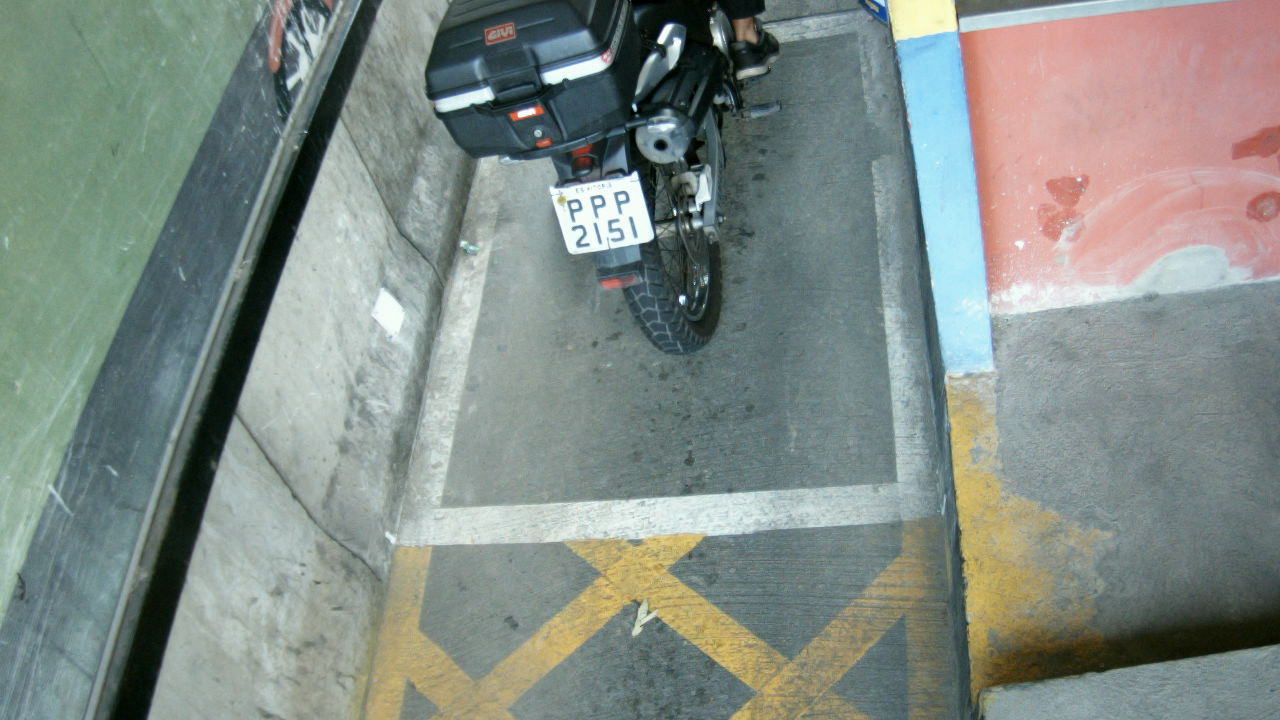placa: (547, 169, 657, 257)
